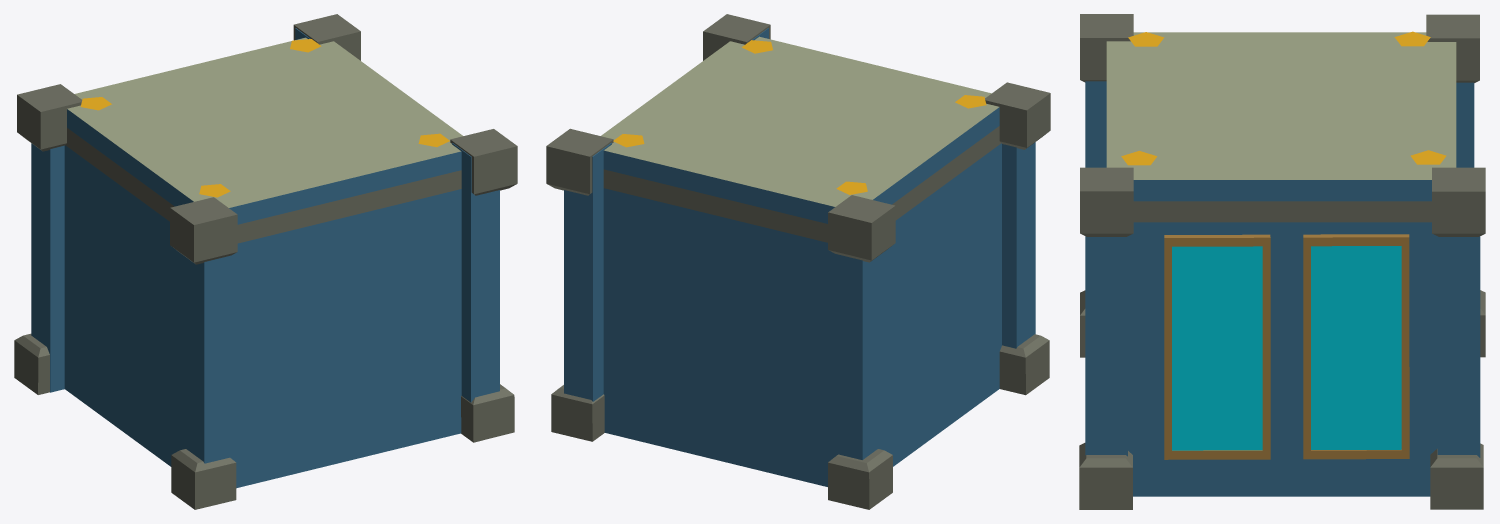
Rendered from blok biru.glb.
3 views of the same model, side by side, from view 1: azimuth 30°, elevation 25°; view 2: azimuth 150°, elevation 25°; view 3: azimuth 270°, elevation 25° (orthographic). The views are drawn at different scales.
Parts seen in each view (by area): view 1: Cube.016, Cube.021, Cube.015, Cube.014, Cube.019, Circle.002; view 2: Cube.016, Cube.021, Cube.015, Cube.014, Cube.019, Circle.002; view 3: Cube.016, Cube.001, Cube.017, Cube.021, Cube.019, Cube.014, Cube.015, Circle.002.
Part boxes in pixels (x1,y1,x2,y2): Cube.016: (64, 37, 463, 488); Cube.021: (31, 28, 499, 463); Cube.015: (17, 14, 515, 264); Cube.014: (14, 333, 514, 509); Cube.019: (19, 14, 517, 260); Circle.002: (80, 39, 449, 197); Cube.016: (601, 36, 1001, 486); Cube.021: (564, 28, 1035, 459); Cube.015: (548, 15, 1050, 262); Cube.014: (551, 334, 1049, 509); Cube.019: (546, 14, 1024, 261); Circle.002: (613, 40, 986, 194); Cube.016: (1106, 32, 1456, 496); Cube.001: (1303, 234, 1409, 459); Cube.017: (1164, 234, 1270, 459); Cube.021: (1085, 81, 1480, 457); Cube.019: (1080, 15, 1485, 236); Cube.014: (1079, 290, 1485, 509); Cube.015: (1080, 14, 1485, 190); Circle.002: (1121, 31, 1446, 165).
Bounding box in the file's own units: 2.4 × 2.03 × 2.33.
